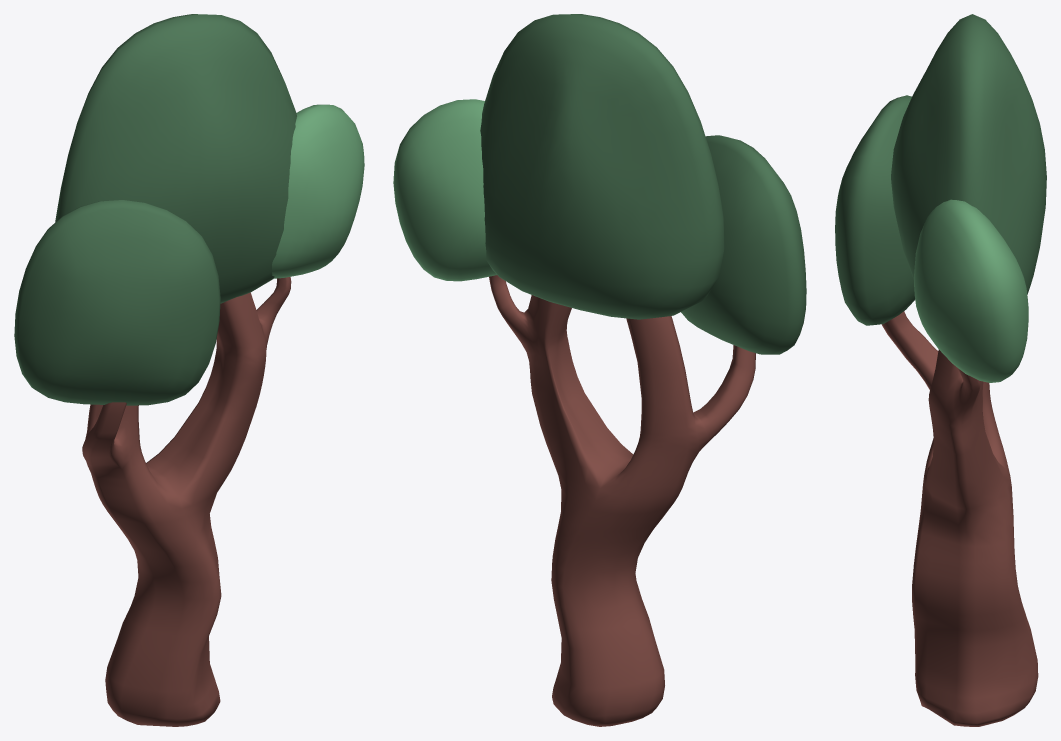
File: Small_Tree_2.fbx
The picture shows the model from 3 angles, left to right: view 1: azimuth 30°, elevation 25°; view 2: azimuth 150°, elevation 25°; view 3: azimuth 270°, elevation 25°; orthographic projection.
Parts seen in each view (by area): view 1: Main_Trunk1; view 2: Main_Trunk1; view 3: Main_Trunk1.
Boxes of the visible parts, <box> form: Main_Trunk1: <box>14,14,364,726</box>; Main_Trunk1: <box>393,14,806,726</box>; Main_Trunk1: <box>835,14,1046,726</box>.
Bounding box in the file's own units: 14.98 × 26.54 × 7.4.
